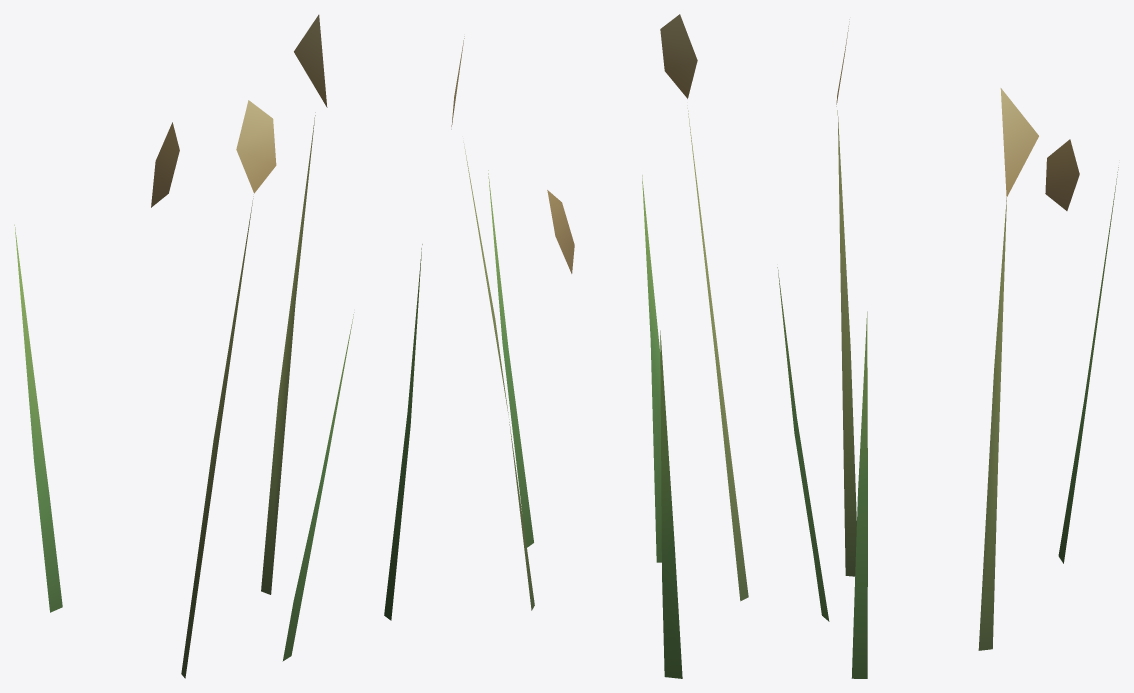
File: Foxtail_LOD2.glb
3 renders of one model, left to right at view 1: azimuth 30°, elevation 25°; view 2: azimuth 150°, elevation 25°; view 3: azimuth 270°, elevation 25°, orthographic. The views are drawn at different scales.
Parts seen in each view (by area): view 1: Foxtail_LOD2; view 2: Foxtail_LOD2; view 3: Foxtail_LOD2.
Part boxes in pixels (x1,y1,x2,y2): Foxtail_LOD2: (14,14,422,678); Foxtail_LOD2: (451,14,748,678); Foxtail_LOD2: (777,19,1118,678).
Bounding box in the file's own units: 0.2202 × 0.4088 × 0.213.
